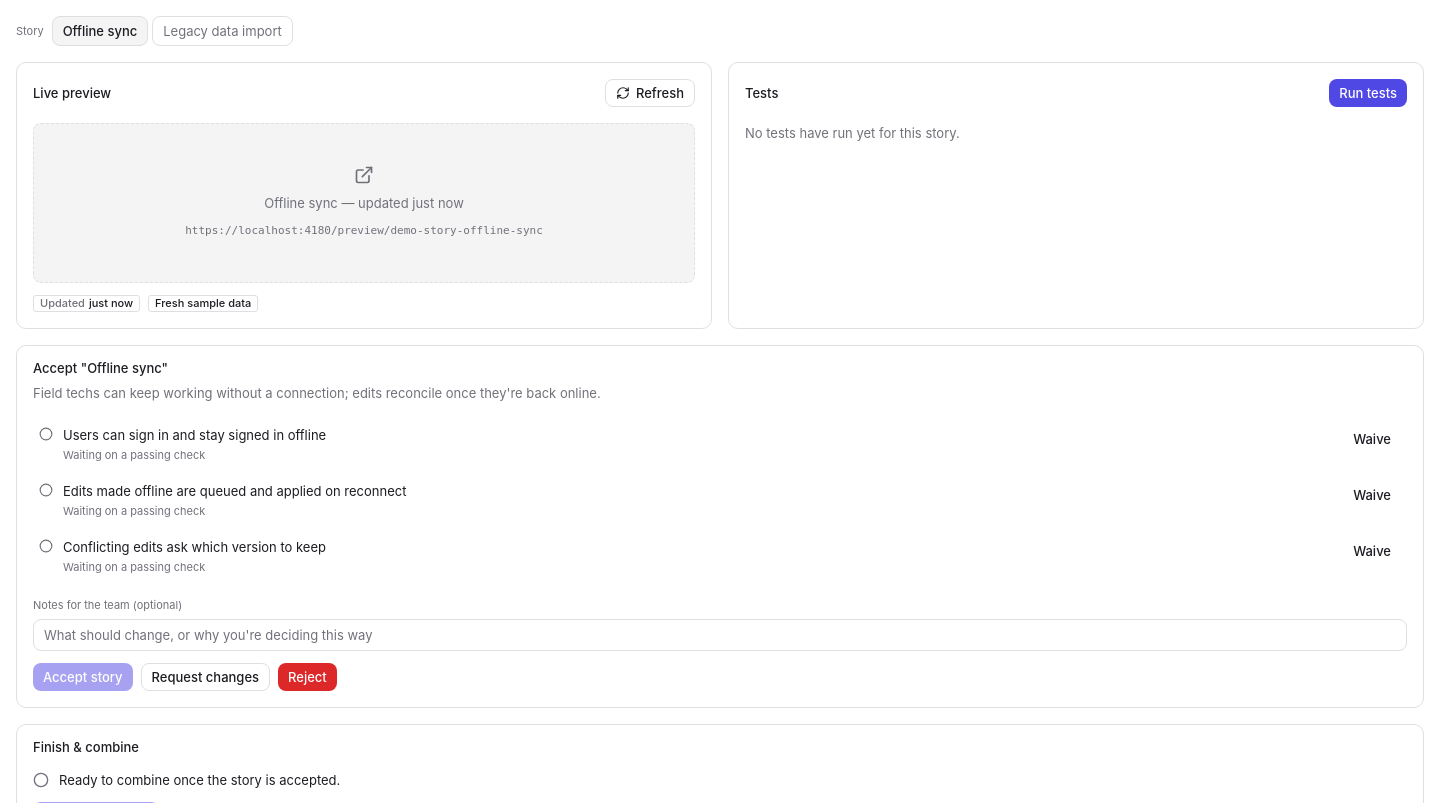
Test: VerificationSection › switching stories keeps each one's state independent
Click the button "Run tests": {"x": 1368, "y": 93} [1329,79,1407,107]
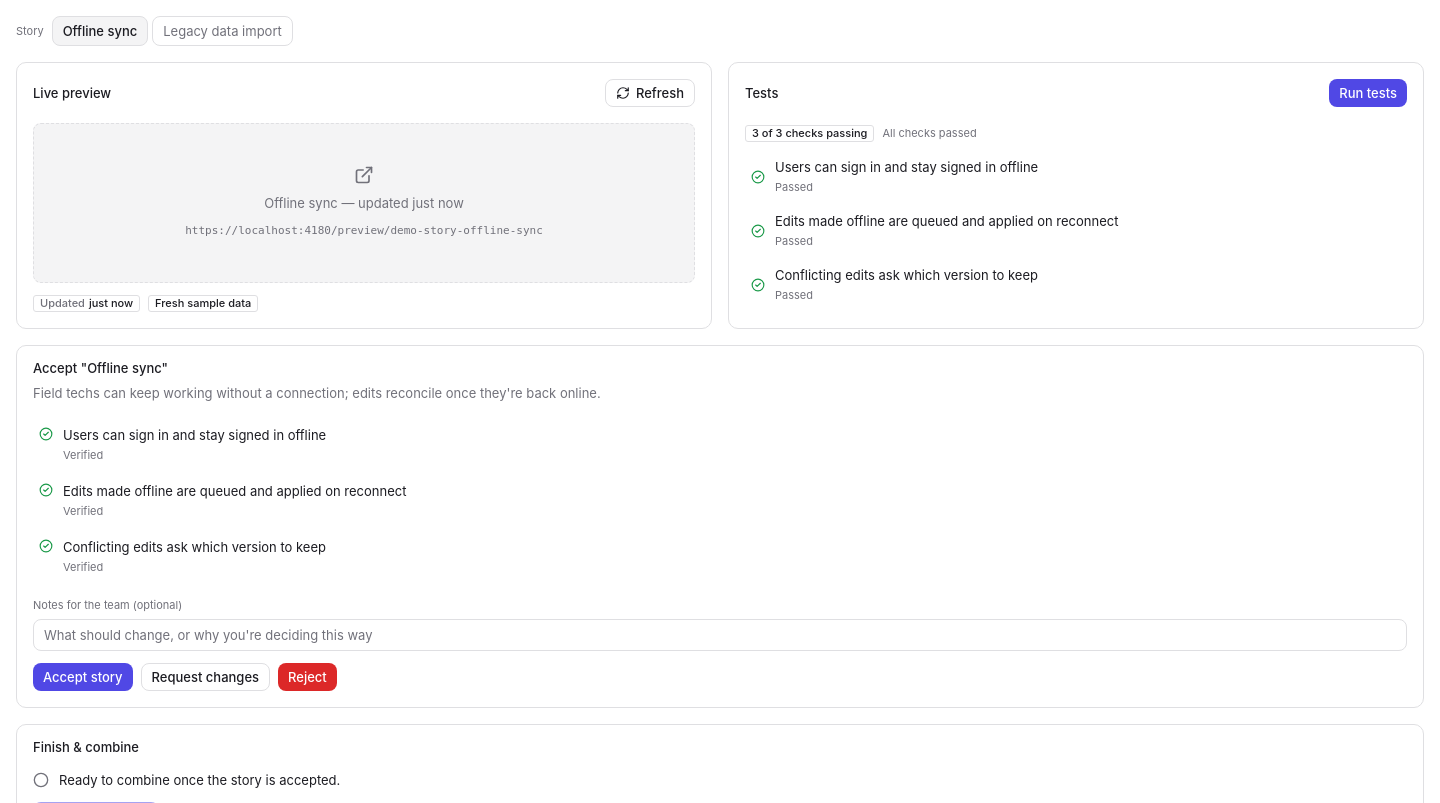
Check: the text "3 of 3 checks passing" is shown, box [745,124,874,142]
Click the tab "Legacy data import": {"x": 222, "y": 31} [152,16,293,46]
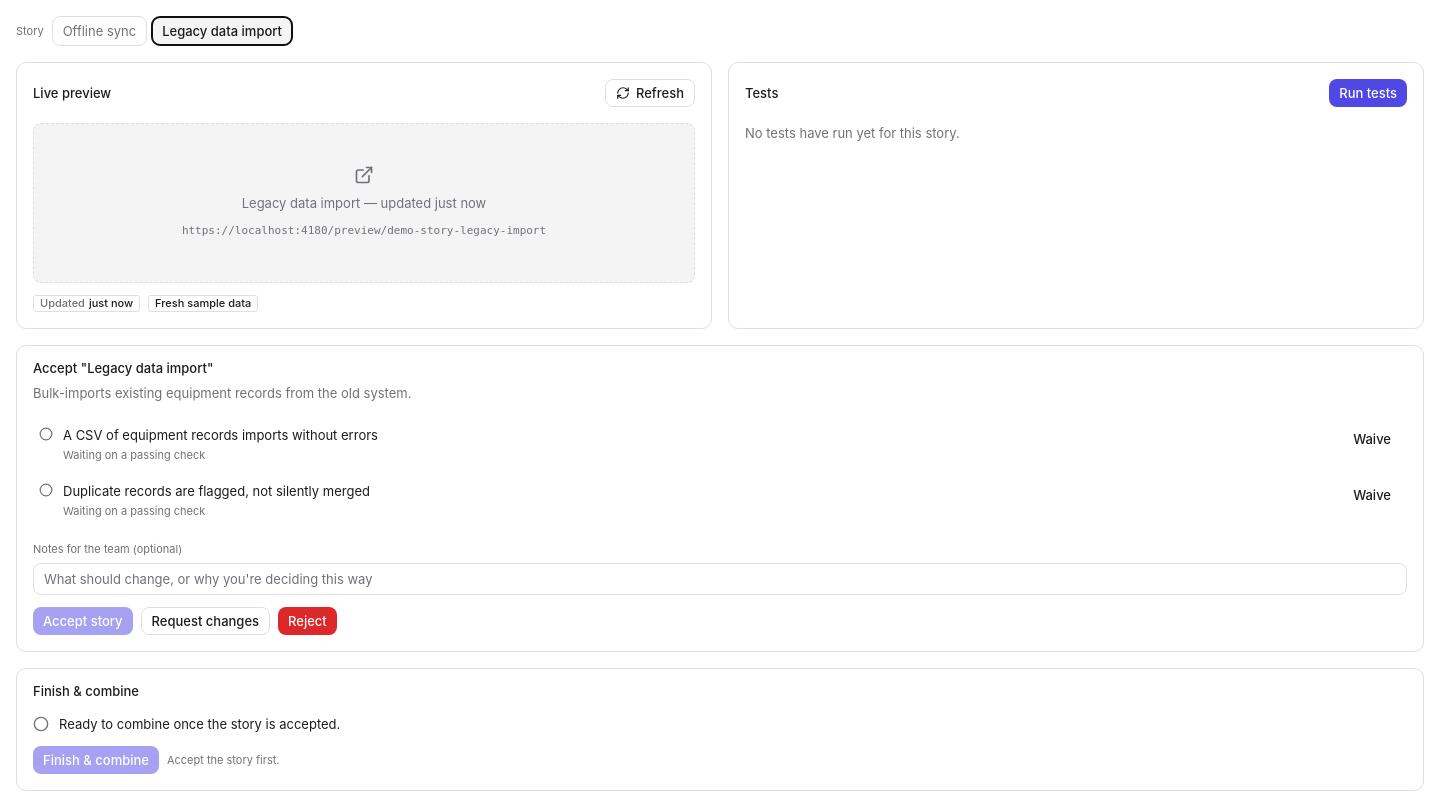
Check: the text "No tests have run yet for this story." is shown, box [745,125,960,141]
Click the tab "Offline sync": {"x": 99, "y": 31} [52,16,147,46]
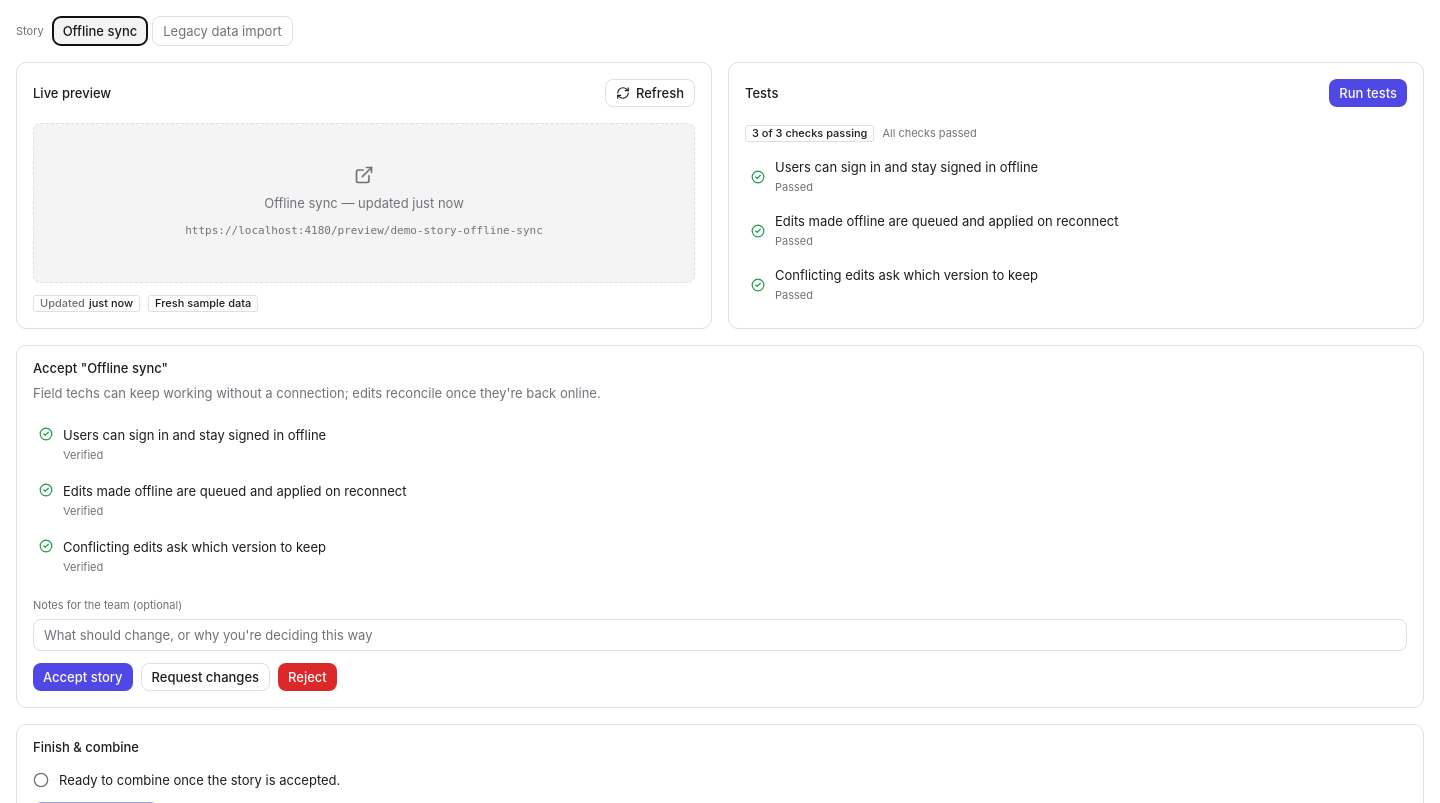
Check: the text "3 of 3 checks passing" is shown, box [745,124,874,142]
